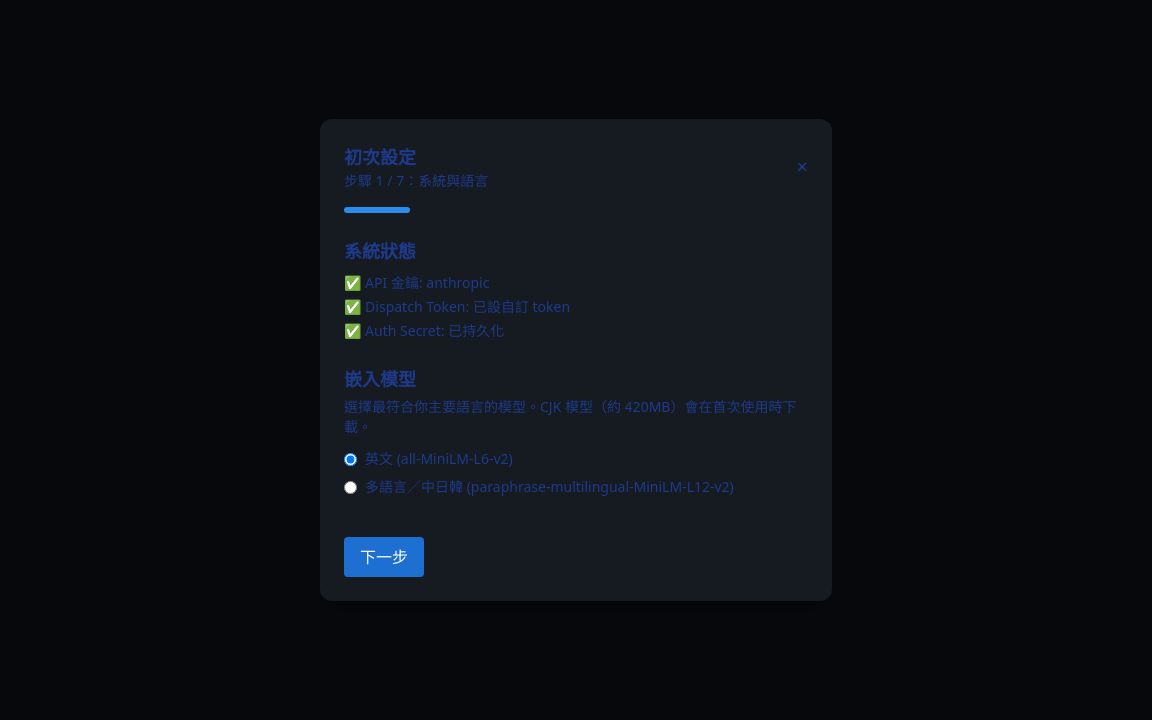
SetupWizard › goes back to the previous step when Back is clicked
Click the button "下一步": (384, 557) [344, 537, 424, 577]
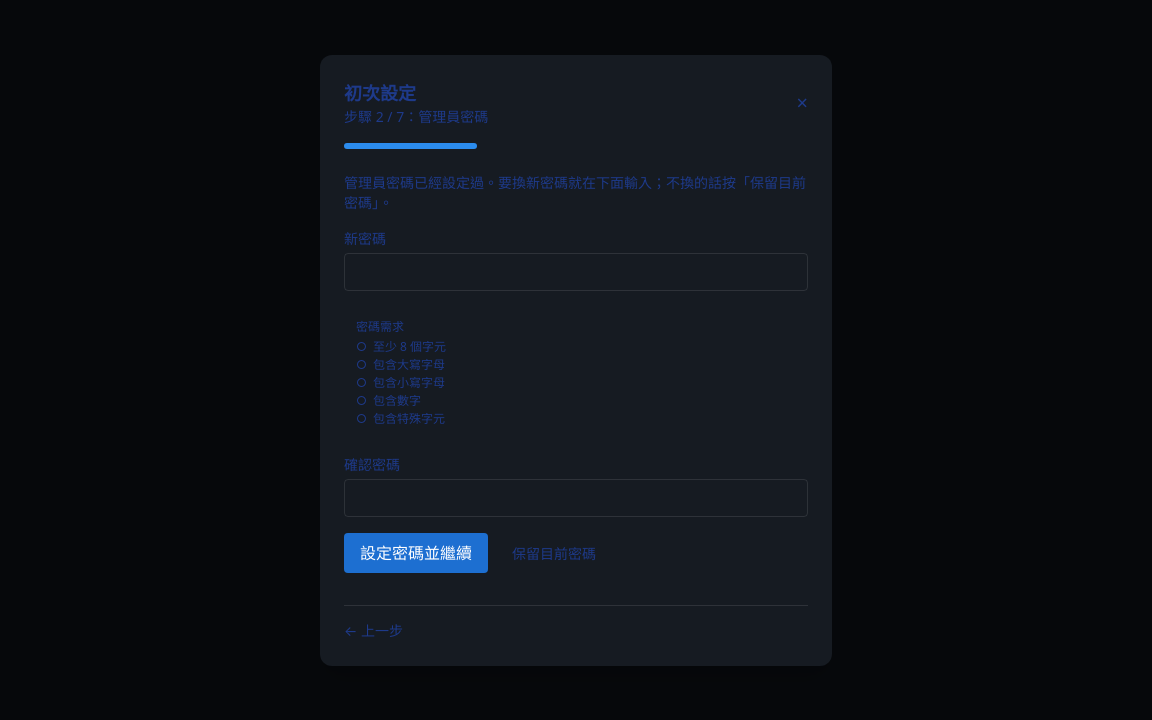
Check: the text "步驟 2 / 7：管理員密碼" is shown, box [344, 106, 488, 126]
Click the button "← 上一步": (374, 630) [344, 620, 403, 640]
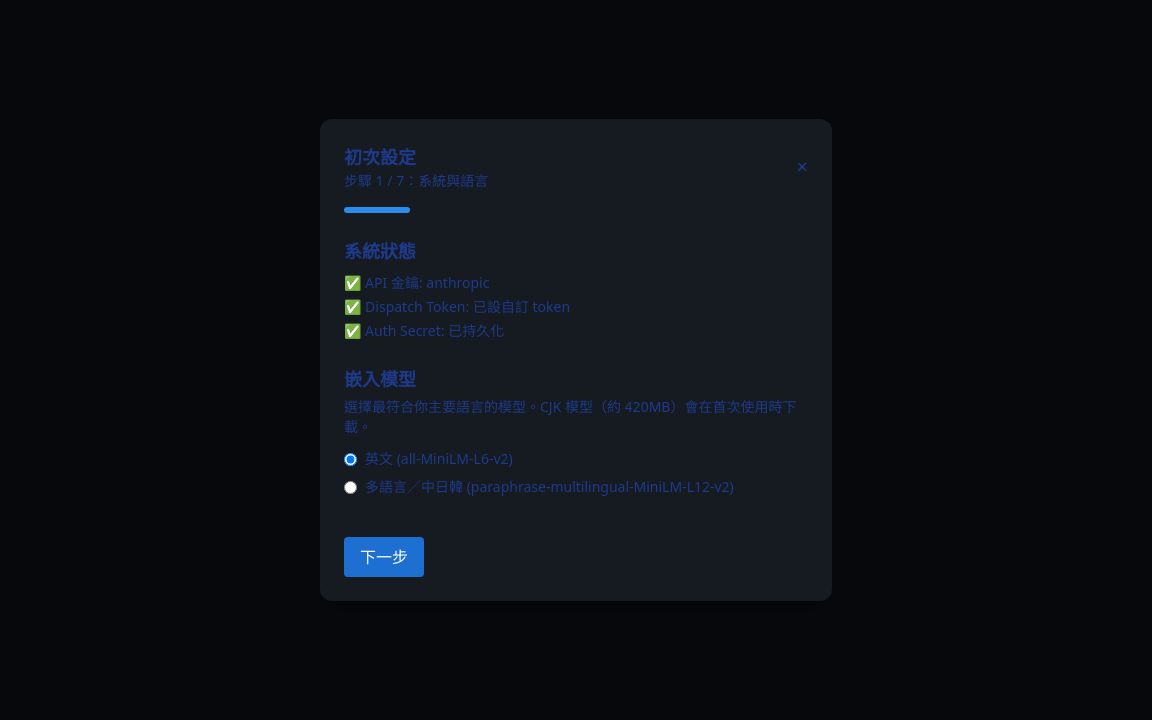
Check: the text "步驟 1 / 7：系統與語言" is shown, box [344, 171, 488, 191]
